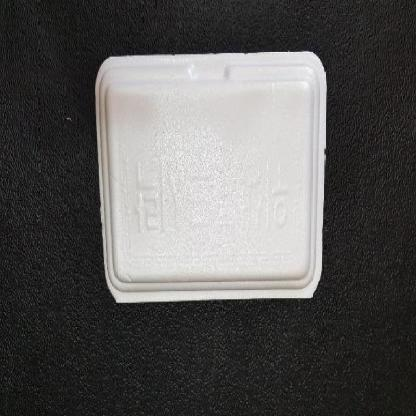Glass Cup: (94, 49, 326, 302), (95, 51, 327, 303)
